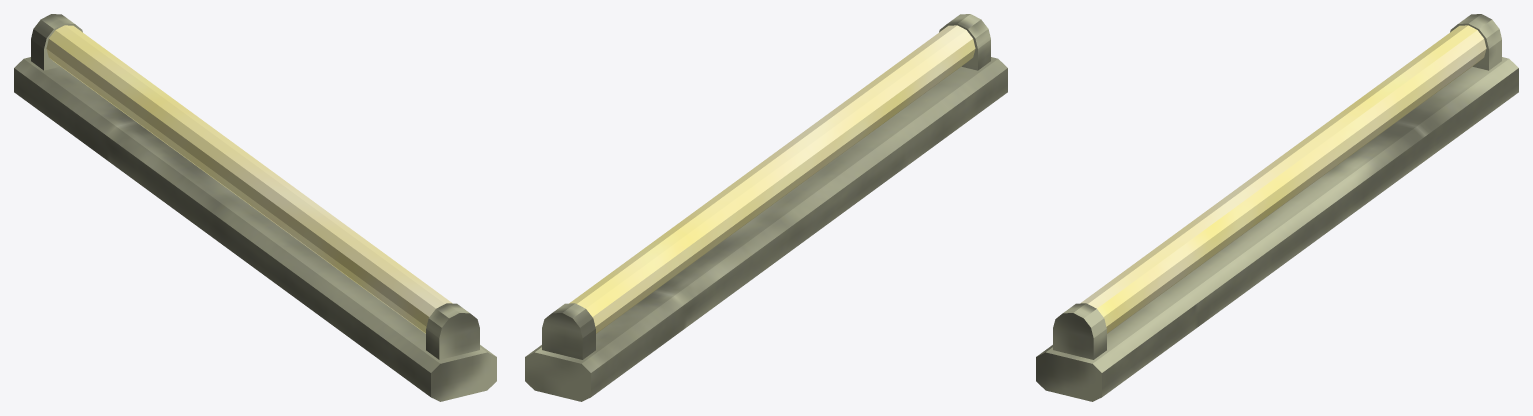
Rendered from flu_light.obj.
The picture shows the model from 3 angles, left to right: view 1: azimuth 30°, elevation 25°; view 2: azimuth 150°, elevation 25°; view 3: azimuth 330°, elevation 25°; orthographic projection.
Visible parts, largest first — view 1: flu_light; view 2: flu_light; view 3: flu_light.
Part boxes in pixels (x1=…): flu_light: x1=14, y1=14, x2=496, y2=401; flu_light: x1=525, y1=14, x2=1007, y2=401; flu_light: x1=1036, y1=14, x2=1518, y2=401.
Bounding box in the file's own units: 0.1097 × 0.1275 × 1.2.
